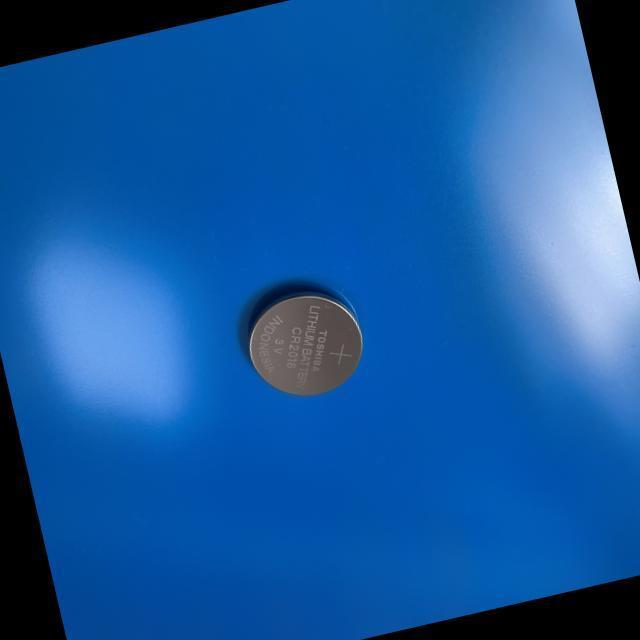COIN: (233, 274, 373, 409)
